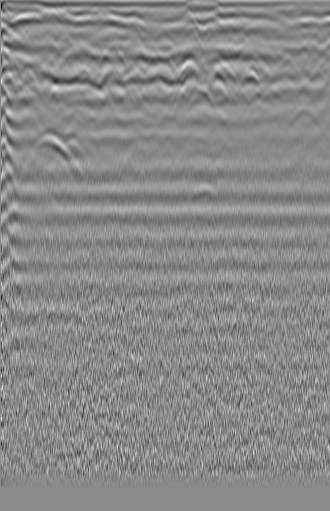상수: (283, 37, 326, 67)
오수: (1, 24, 24, 51)
우수: (122, 53, 154, 78)
